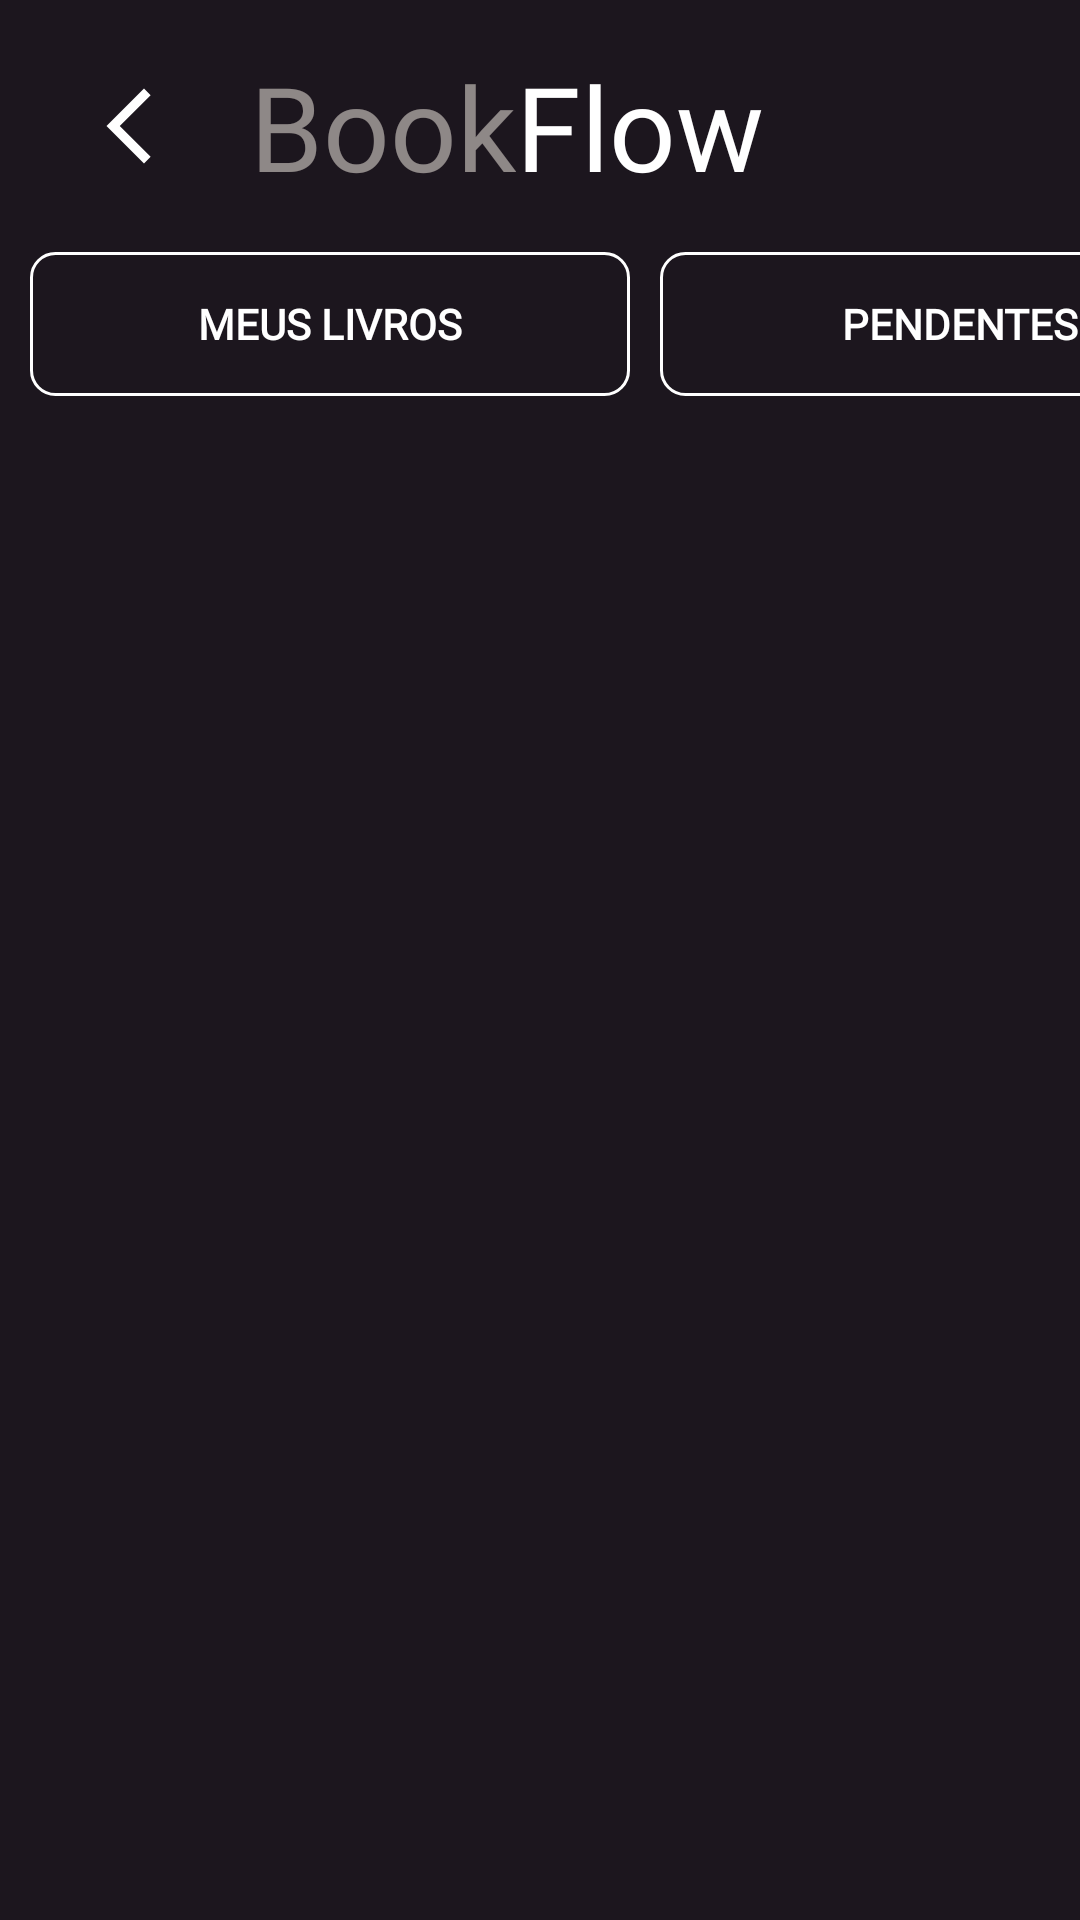

Named icons in this screenshot (1080x1920) and their bounding boxes, (x1, y1, x2, y2):
arrow back: (106, 88, 151, 164)
